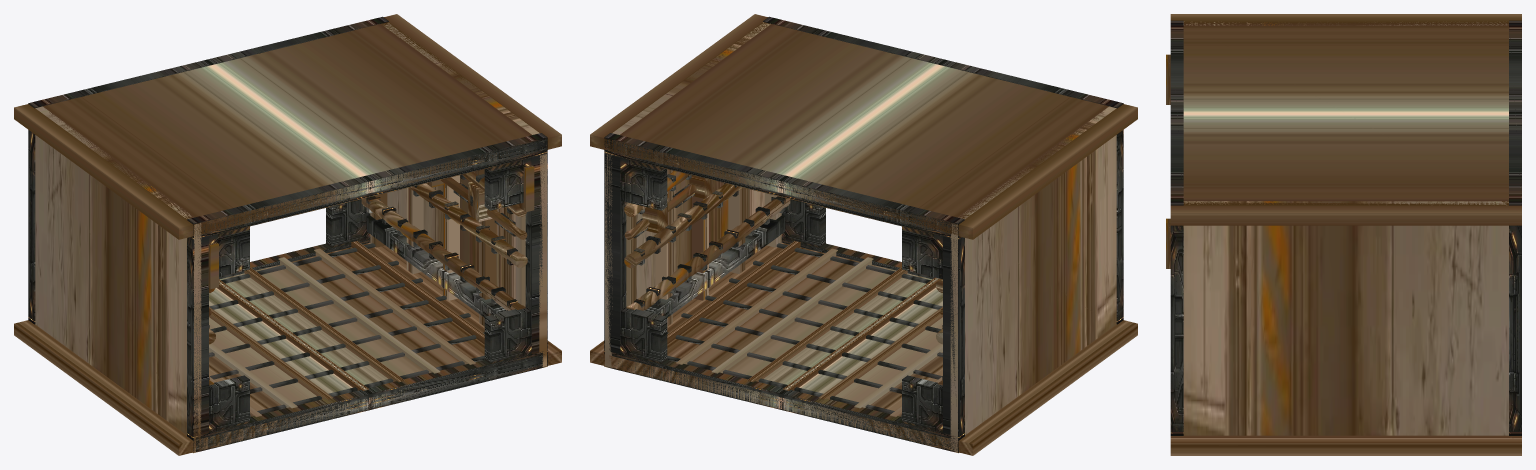
Rendered from hangar_koridor_ankora.glb.
The picture shows the model from 3 angles, left to right: view 1: azimuth 30°, elevation 25°; view 2: azimuth 150°, elevation 25°; view 3: azimuth 270°, elevation 25°; orthographic projection. The views are drawn at different scales.
Visible parts, largest first — view 1: LOD0_koridor; view 2: LOD0_koridor; view 3: LOD0_koridor.
Boxes of the visible parts, box(x1,y1,x2,y2) form: LOD0_koridor: box(14, 14, 561, 455); LOD0_koridor: box(590, 14, 1137, 455); LOD0_koridor: box(1166, 14, 1521, 455).
Size of the model in its own units: 10.2 by 5.84 by 7.7.
Materials: 1 (1 with a texture image).
